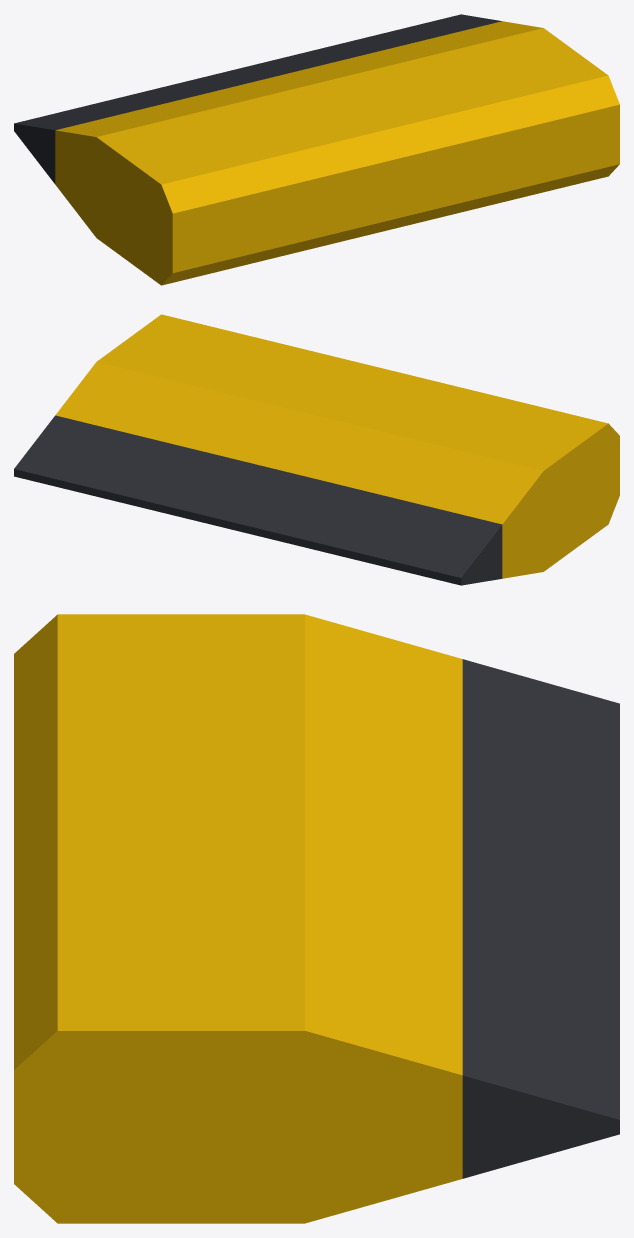
The model's file is Blade 1.fbx.
The picture shows the model from 3 angles, top to bottom: view 1: azimuth 30°, elevation 25°; view 2: azimuth 150°, elevation 25°; view 3: azimuth 270°, elevation 25°; orthographic projection. The views are drawn at different scales.
Visible parts, largest first — view 1: Cube; view 2: Cube; view 3: Cube.
Part boxes in pixels (box(x1,y1,x2,y2)): Cube: box(14, 14, 619, 285); Cube: box(14, 314, 619, 585); Cube: box(14, 614, 619, 1223).
Bounding box in the file's own units: 186 × 40.09 × 114.
